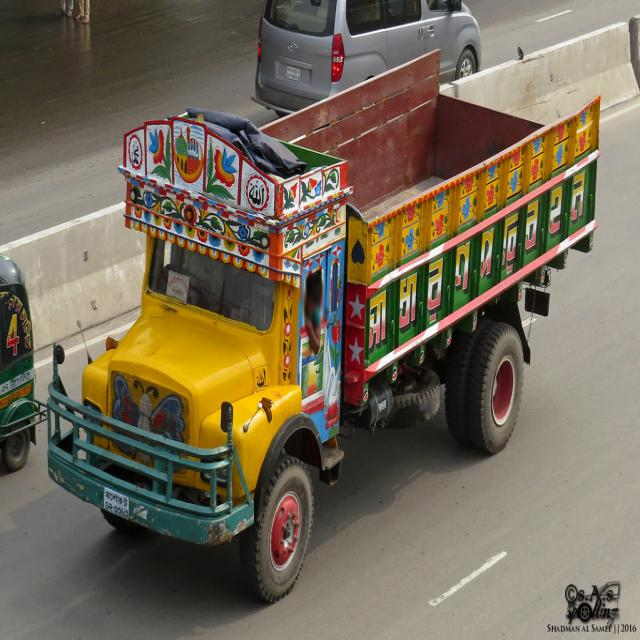car: (252, 0, 489, 91)
truck: (37, 55, 602, 564)
